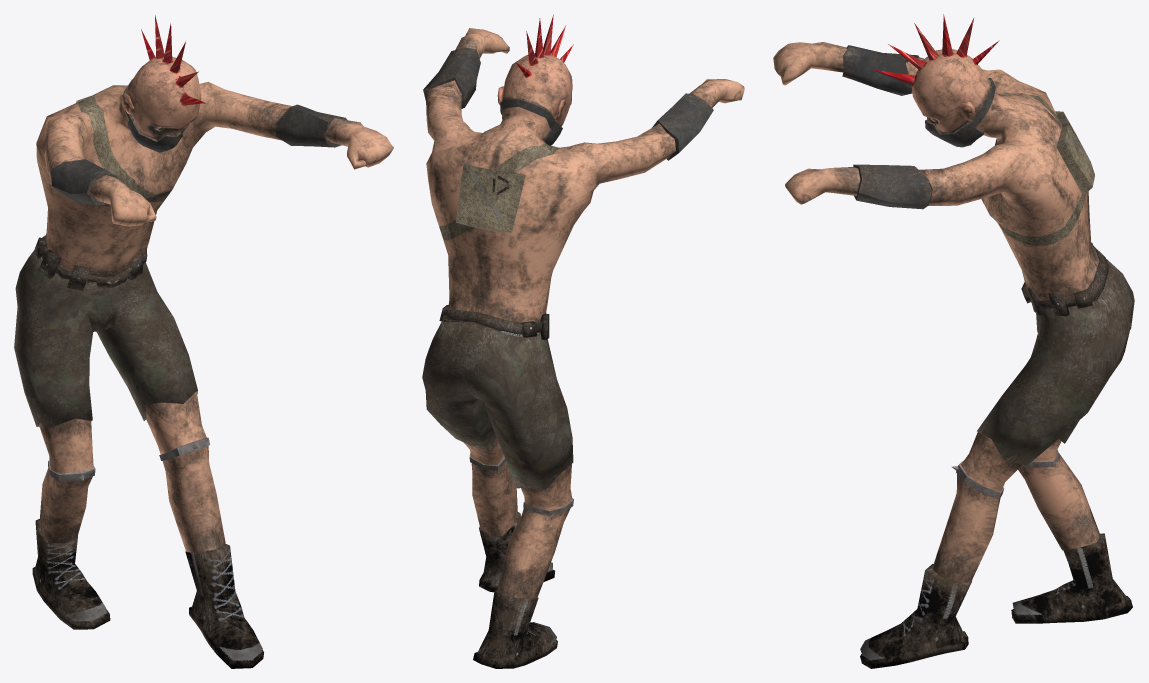
The model's file is Anim_ataque_d3_npc2.0046.obj.
3 renders of one model, left to right at view 1: azimuth 30°, elevation 25°; view 2: azimuth 150°, elevation 25°; view 3: azimuth 270°, elevation 25°, orthographic. The views are drawn at different scales.
Visible parts, largest first — view 1: polySurface1; view 2: polySurface1; view 3: polySurface1.
Part boxes in pixels (box(x1,y1,x2,y2)): polySurface1: box(14, 15, 393, 668); polySurface1: box(422, 14, 744, 668); polySurface1: box(773, 14, 1134, 668).
Bounding box in the file's own units: 4.46 × 9.36 × 4.87.
